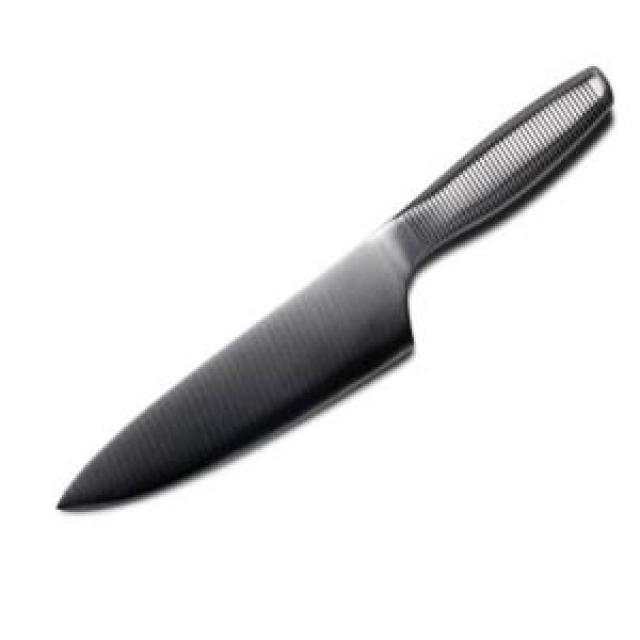knife: (56, 19, 625, 538)
